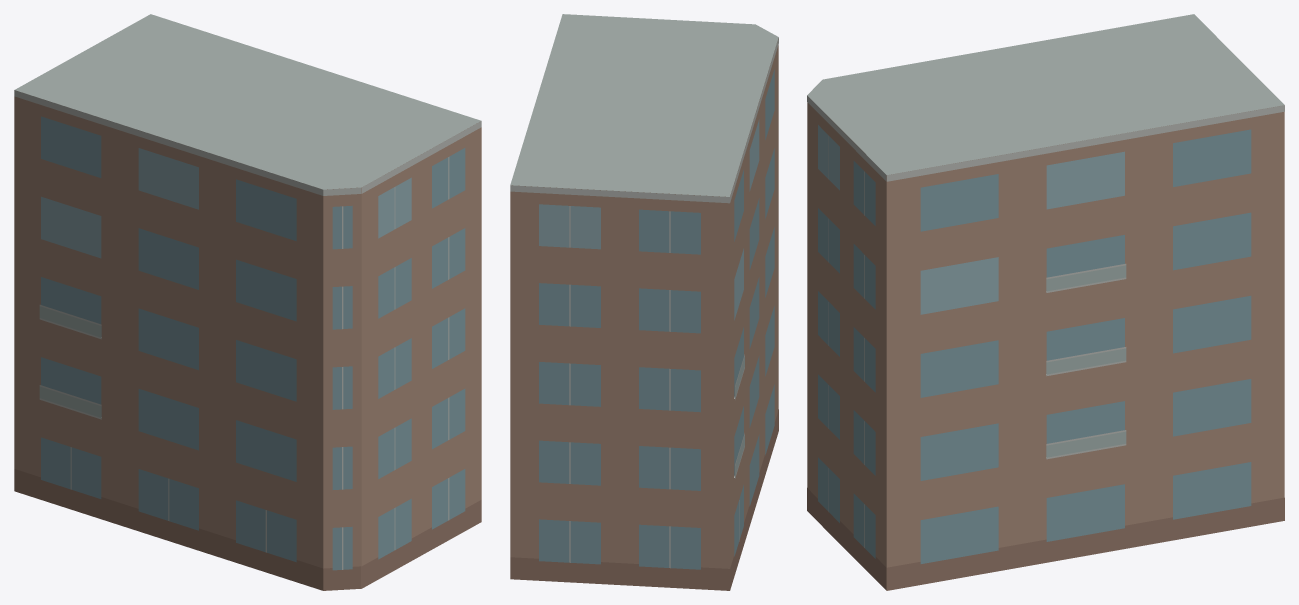
The model's file is survey-upis-32955543.glb.
3 renders of one model, left to right at view 1: azimuth 30°, elevation 25°; view 2: azimuth 150°, elevation 25°; view 3: azimuth 270°, elevation 25°, orthographic. The views are drawn at different scales.
Parts seen in each view (by area): view 1: survey-upis-32955543.tmp; view 2: survey-upis-32955543.tmp; view 3: survey-upis-32955543.tmp.
Part boxes in pixels (x1,y1,x2,y2): survey-upis-32955543.tmp: (14, 14, 481, 590); survey-upis-32955543.tmp: (510, 14, 778, 590); survey-upis-32955543.tmp: (807, 14, 1284, 590).
Bounding box in the file's own units: 12.73 × 15.3 × 15.94.
